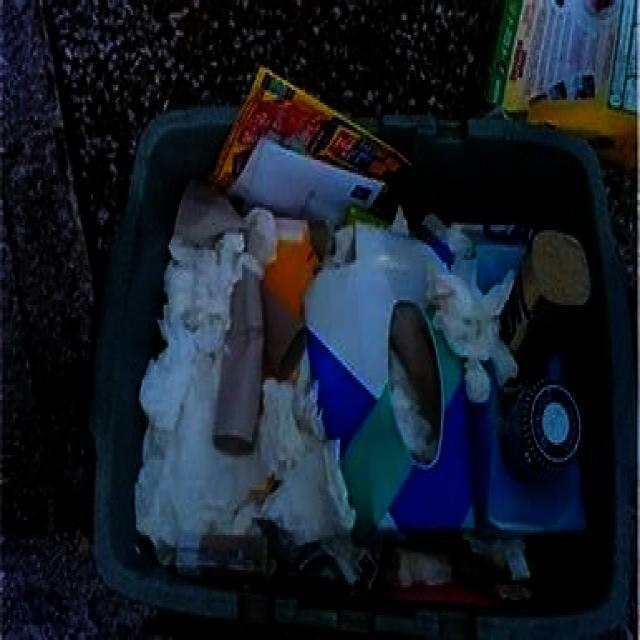Garbage: (129, 61, 594, 613)
Glass_bottle: (501, 230, 591, 377), (502, 377, 581, 479), (175, 532, 275, 581)
Plastic: (305, 224, 473, 540)
Plastic_wraper: (210, 66, 409, 189)
